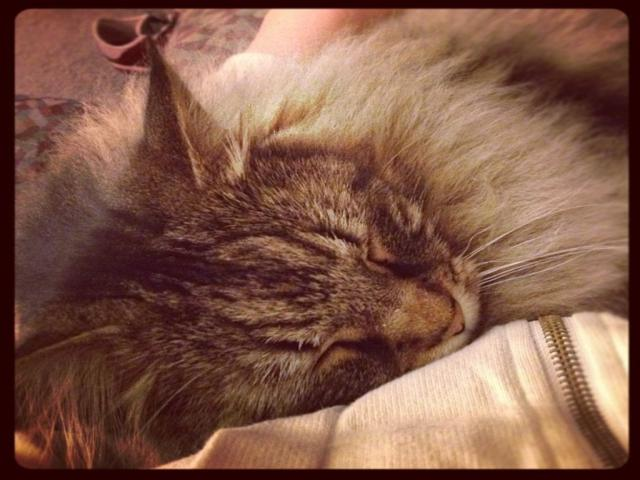Cat: (13, 12, 639, 469)
